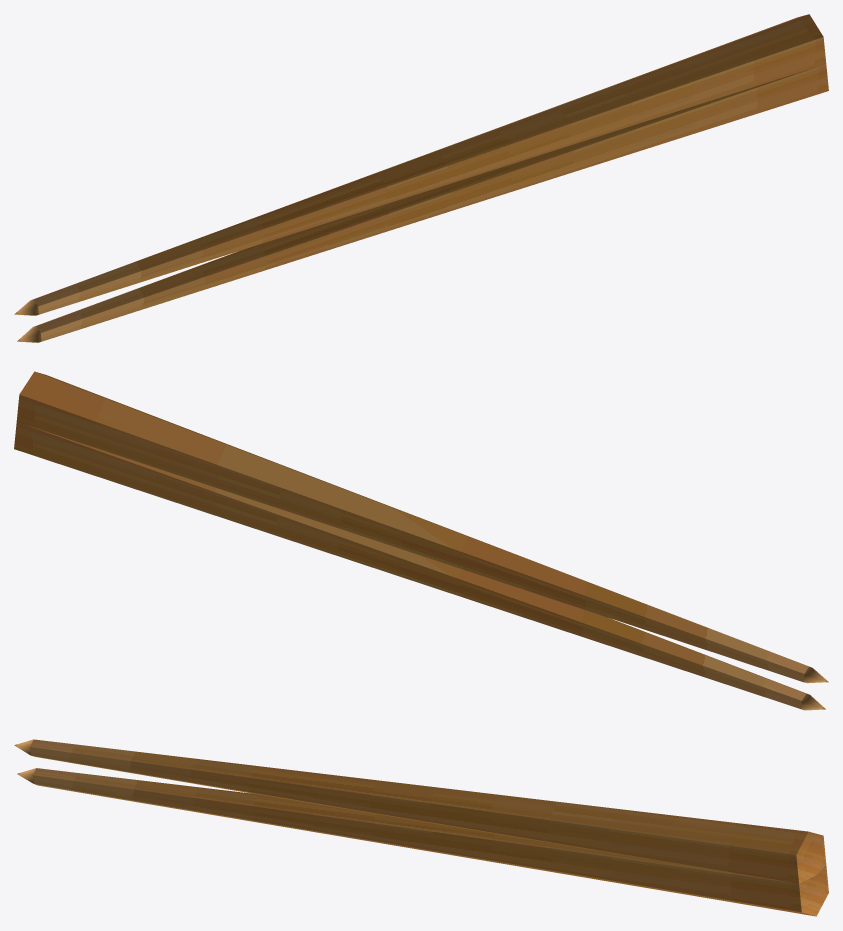
The picture shows the model from 3 angles, top to bottom: view 1: azimuth 30°, elevation 25°; view 2: azimuth 150°, elevation 25°; view 3: azimuth 330°, elevation 25°; orthographic projection.
Parts seen in each view (by area): view 1: 2771item2771; view 2: 2771item2771; view 3: 2771item2771.
Part boxes in pixels (<box>): 2771item2771: <box>14,14,828,342</box>; 2771item2771: <box>14,371,828,710</box>; 2771item2771: <box>14,739,828,916</box>.
Size of the model in its own units: 0.4586 by 0.0789 by 0.0261.
Materials: 1 (1 with a texture image).
